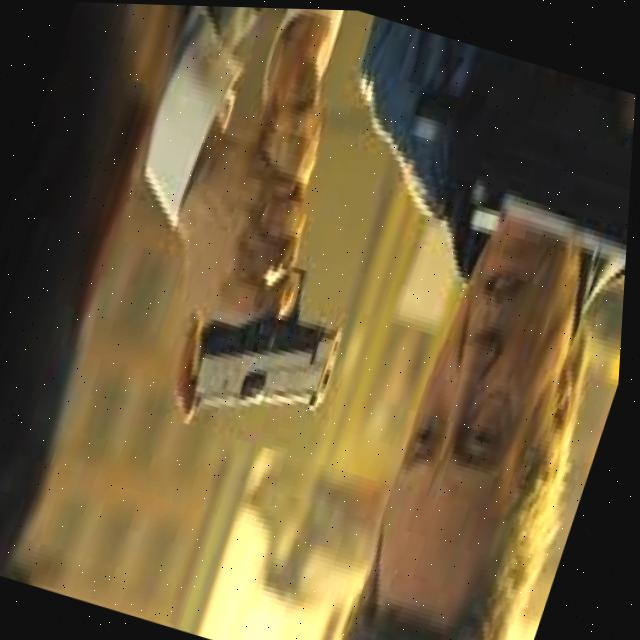firearm: (367, 28, 639, 310)
pistol: (176, 235, 369, 444)
